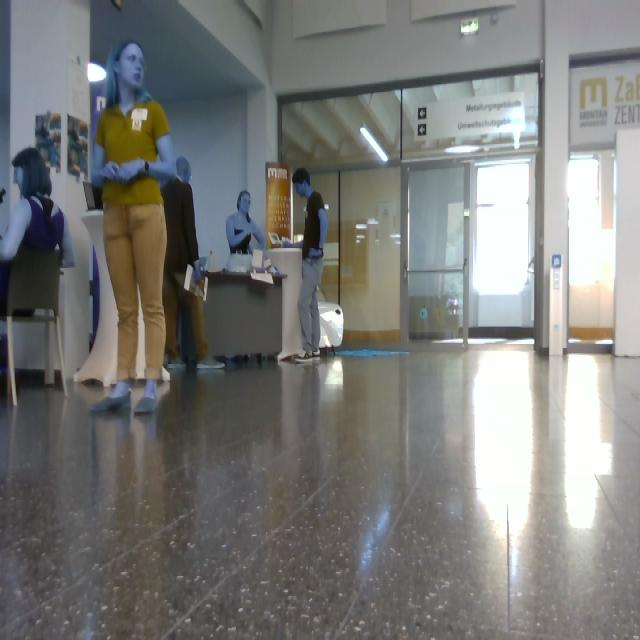chair: (1, 249, 67, 406)
desk: (204, 270, 287, 362)
door: (283, 69, 540, 349), (294, 192, 306, 240)
light bulb: (360, 126, 389, 161), (88, 64, 106, 84), (462, 18, 478, 36)
person: (93, 42, 176, 414), (1, 148, 74, 310), (162, 158, 208, 370), (293, 169, 328, 361), (226, 192, 264, 273)
pillar: (10, 1, 91, 378), (542, 1, 569, 357), (16, 324, 45, 369), (54, 324, 61, 371), (11, 169, 19, 210)
table: (75, 212, 118, 388), (267, 249, 302, 358), (137, 306, 144, 378)
tiled floor: (1, 342, 640, 640)
